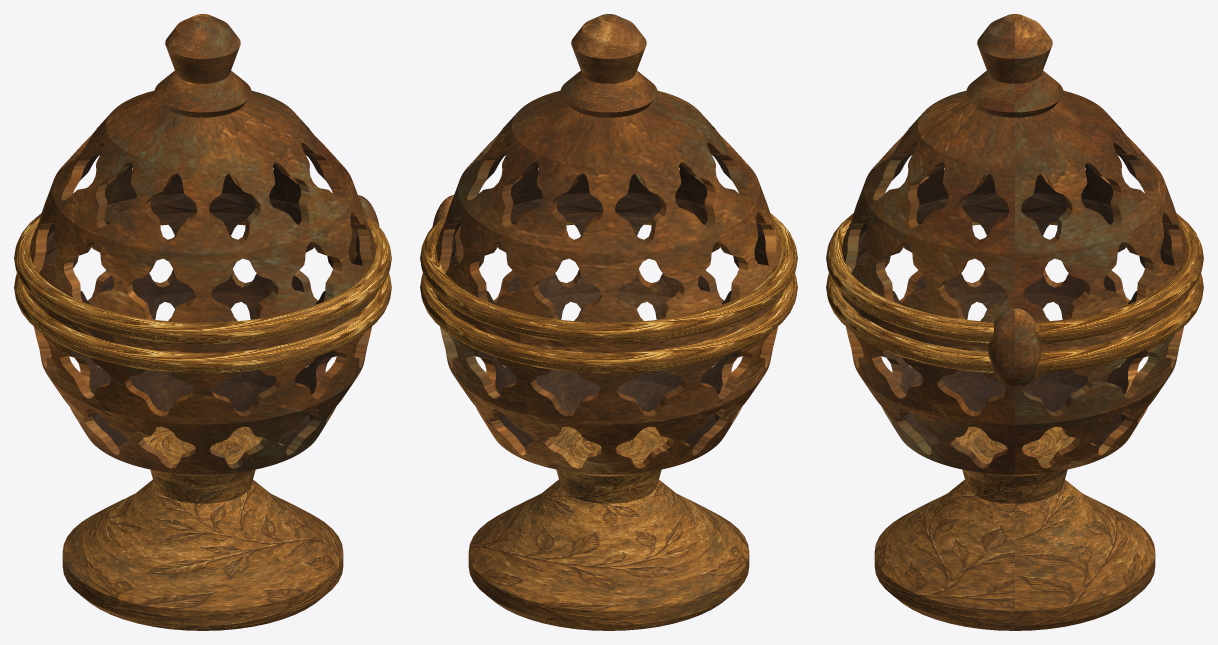
File: censer.obj
The picture shows the model from 3 angles, left to right: view 1: azimuth 30°, elevation 25°; view 2: azimuth 150°, elevation 25°; view 3: azimuth 270°, elevation 25°; orthographic projection.
Visible parts, largest first — view 1: shell, foot, rim1, rim0, lid_knob; view 2: shell, foot, rim1, rim0, lid_knob; view 3: shell, foot, rim1, rim0, lid_knob, hinge.
Boxes of the visible parts, bbox=[...] form: shell: bbox=[28, 90, 377, 476]; foot: bbox=[62, 426, 343, 630]; rim1: bbox=[14, 213, 391, 344]; rim0: bbox=[14, 221, 391, 373]; lid_knob: bbox=[154, 14, 251, 117]; shell: bbox=[434, 90, 783, 476]; foot: bbox=[468, 426, 749, 630]; rim1: bbox=[420, 213, 797, 344]; rim0: bbox=[420, 221, 797, 373]; lid_knob: bbox=[560, 14, 657, 117]; shell: bbox=[840, 90, 1189, 476]; foot: bbox=[874, 426, 1155, 630]; rim1: bbox=[826, 213, 1203, 343]; rim0: bbox=[826, 221, 1203, 372]; lid_knob: bbox=[966, 14, 1063, 117]; hinge: bbox=[988, 308, 1041, 388].
Bounding box in the file's own units: 70.72 × 112 × 68.77.
4 materials, 4 textured.
